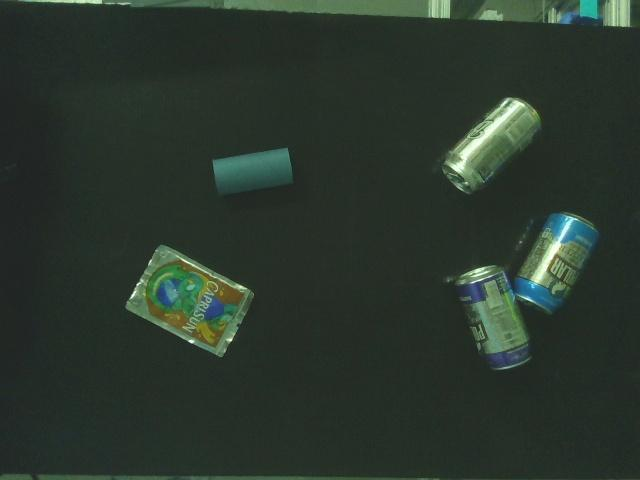cardboard: (212, 146, 296, 198)
metal: (440, 95, 545, 196), (510, 211, 600, 317), (452, 264, 538, 373)
plastic: (124, 244, 255, 358)
